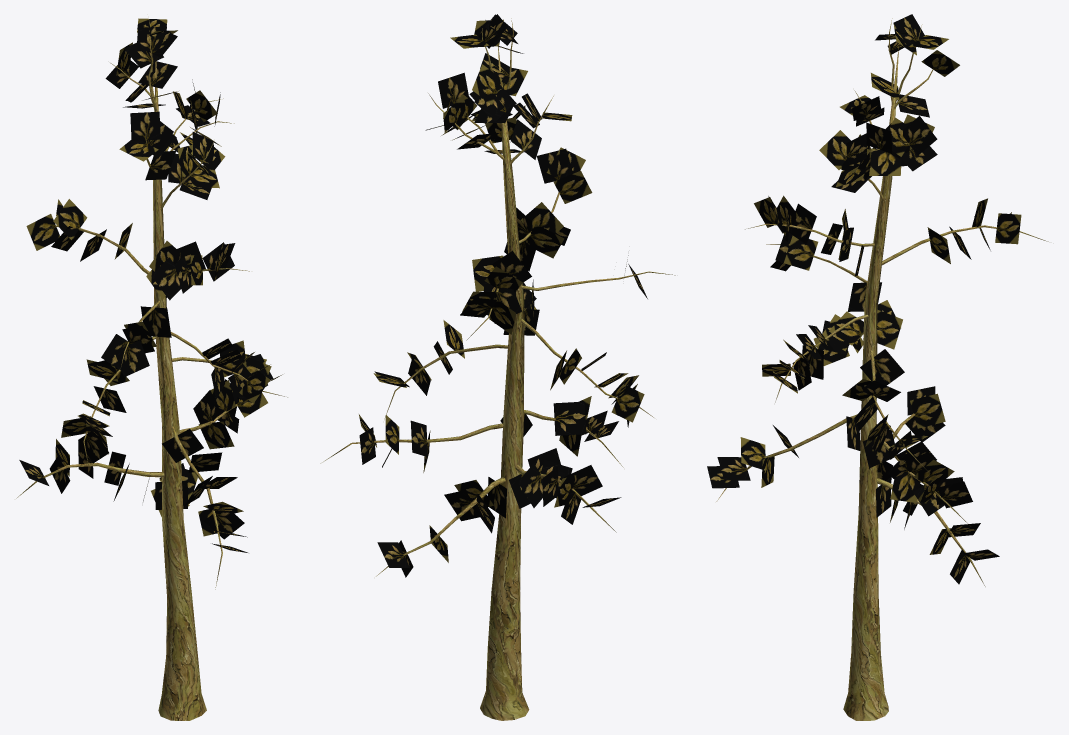
The model's file is hut_thintree1.glb.
3 renders of one model, left to right at view 1: azimuth 30°, elevation 25°; view 2: azimuth 150°, elevation 25°; view 3: azimuth 270°, elevation 25°, orthographic. The views are drawn at different scales.
Visible parts, largest first — view 1: hut_thintree1; view 2: hut_thintree1; view 3: hut_thintree1.
Boxes of the visible parts, bbox=[...] form: hut_thintree1: bbox=[16, 18, 287, 720]; hut_thintree1: bbox=[320, 14, 675, 720]; hut_thintree1: bbox=[707, 14, 1048, 720].
Size of the model in its own units: 1.18 by 2.91 by 1.34.
2 materials, 2 textured.
